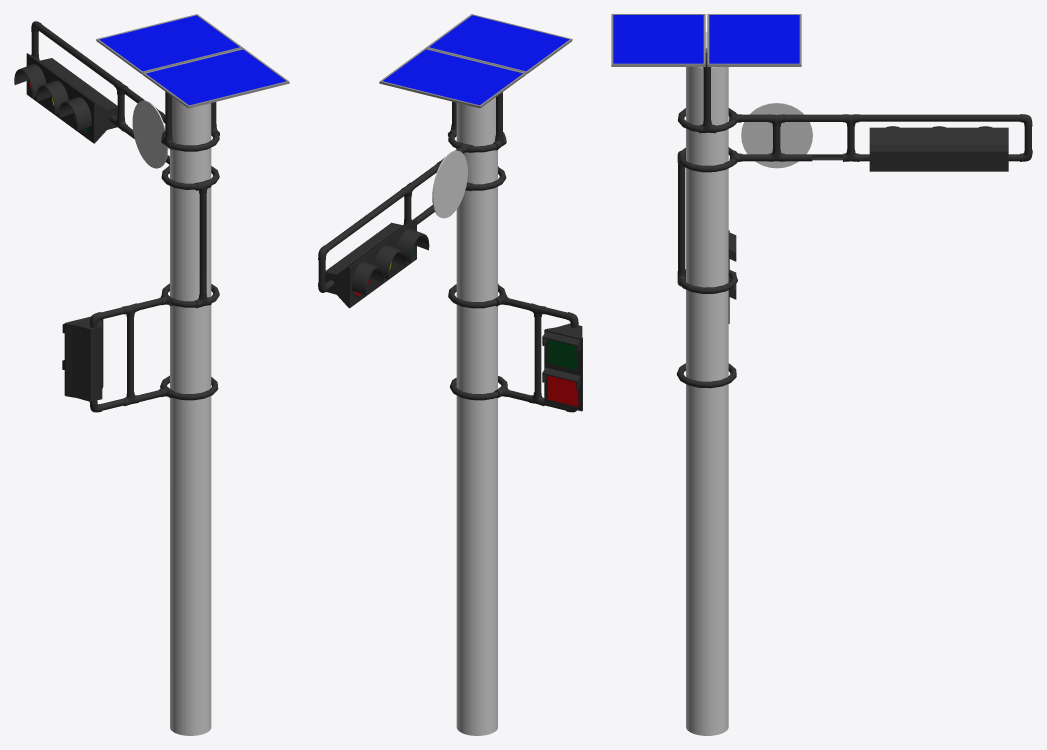
File: horizontal traffic light.fbx
3 renders of one model, left to right at view 1: azimuth 30°, elevation 25°; view 2: azimuth 150°, elevation 25°; view 3: azimuth 270°, elevation 25°, orthographic. The views are drawn at different scales.
Parts seen in each view (by area): view 1: Cylinder.004; view 2: Cylinder.004; view 3: Cylinder.004.
Boxes of the visible parts, box(x1,y1,x2,y2) form: Cylinder.004: box(14, 14, 289, 735); Cylinder.004: box(318, 14, 582, 735); Cylinder.004: box(611, 14, 1032, 735).
Bounding box in the file's own units: 183 × 697 × 386.
